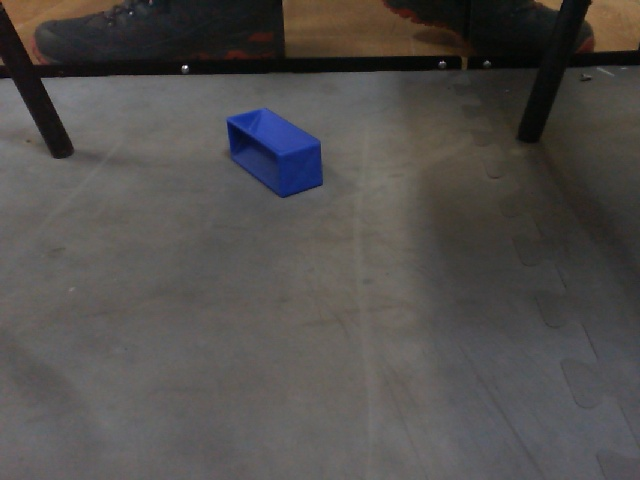BlueSample: (221, 106, 330, 197)
